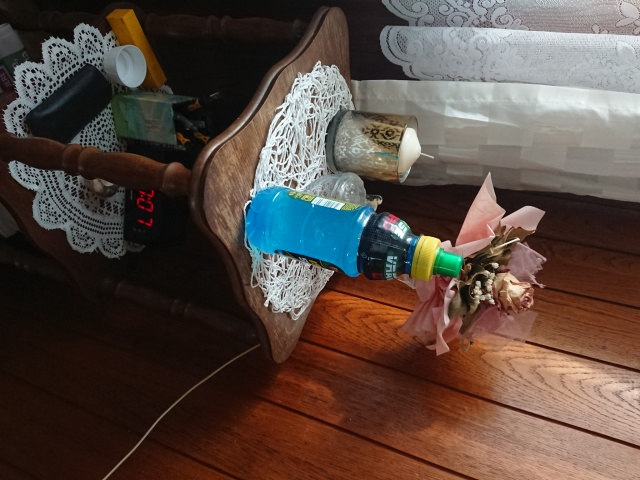Vindi Iso Sport Forest Strawberries 500mL: (243, 184, 465, 284)
